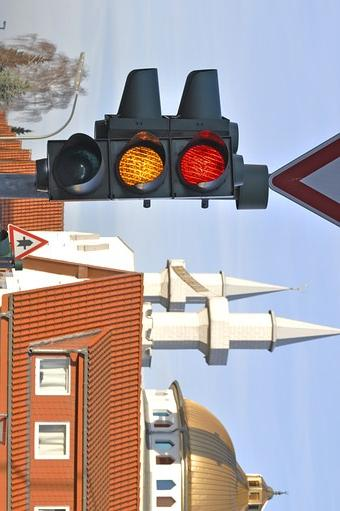trafic: (45, 110, 238, 205)
